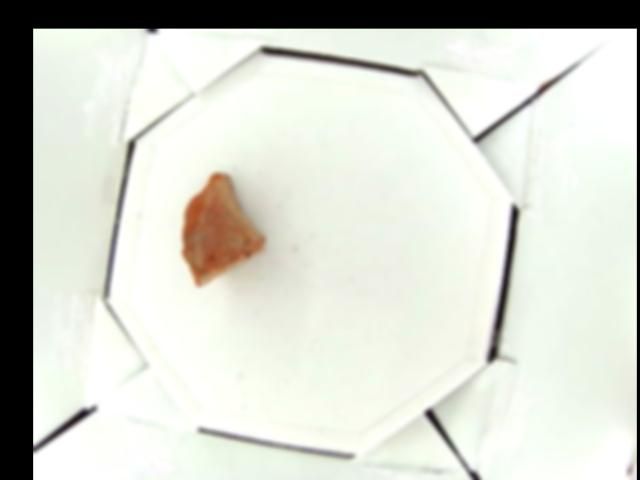Brisk: (181, 172, 267, 286)
